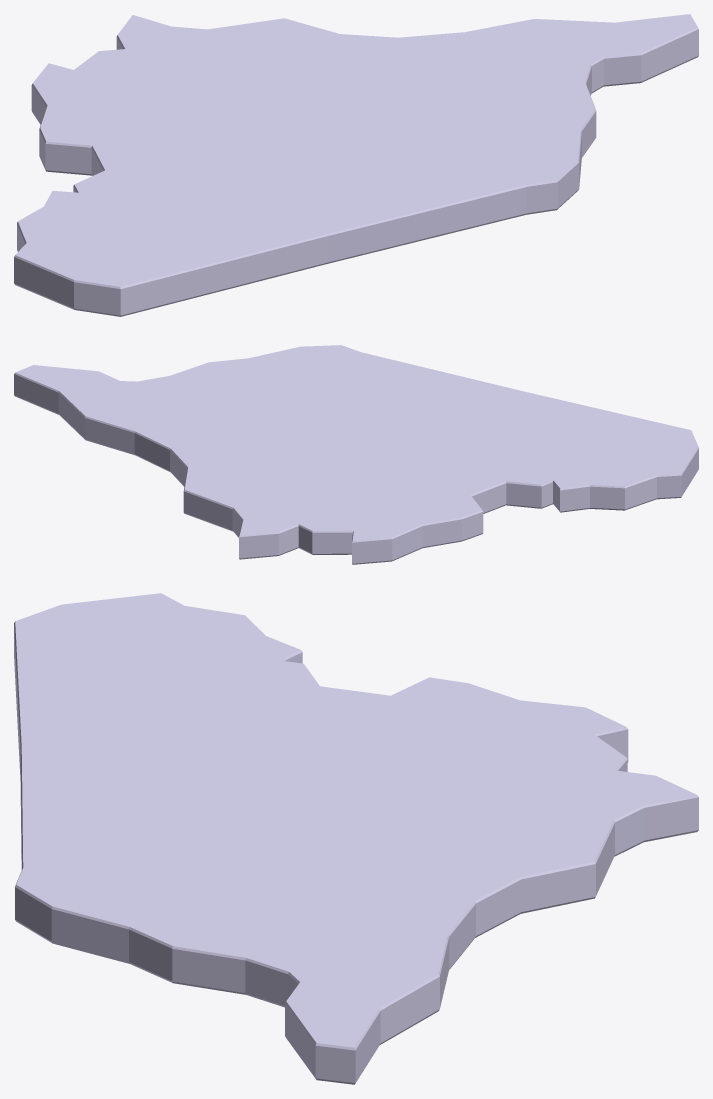
The model's file is SYR.glb.
The picture shows the model from 3 angles, top to bottom: view 1: azimuth 30°, elevation 25°; view 2: azimuth 150°, elevation 25°; view 3: azimuth 270°, elevation 25°; orthographic projection. The views are drawn at different scales.
Bounding box in the file's own units: 1.79 × 0.068 × 1.14.
